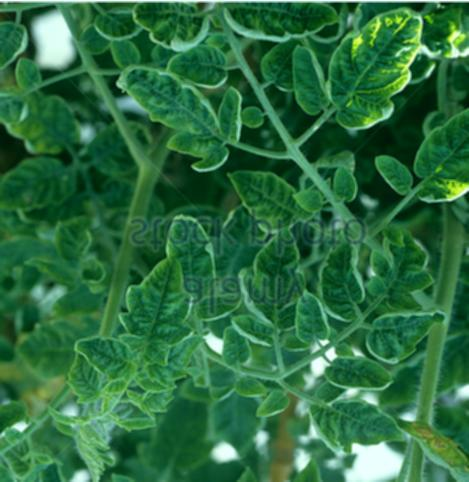Tomato leaf yellow virus: (324, 0, 454, 134), (119, 58, 256, 173), (121, 242, 201, 382), (236, 214, 309, 336), (410, 81, 469, 220), (86, 0, 229, 53), (164, 202, 222, 309), (361, 305, 467, 363), (313, 224, 373, 323), (224, 170, 309, 236), (277, 40, 346, 117), (76, 326, 144, 382), (288, 289, 346, 349), (331, 355, 405, 395)
